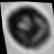correct: (1, 2, 54, 54)
